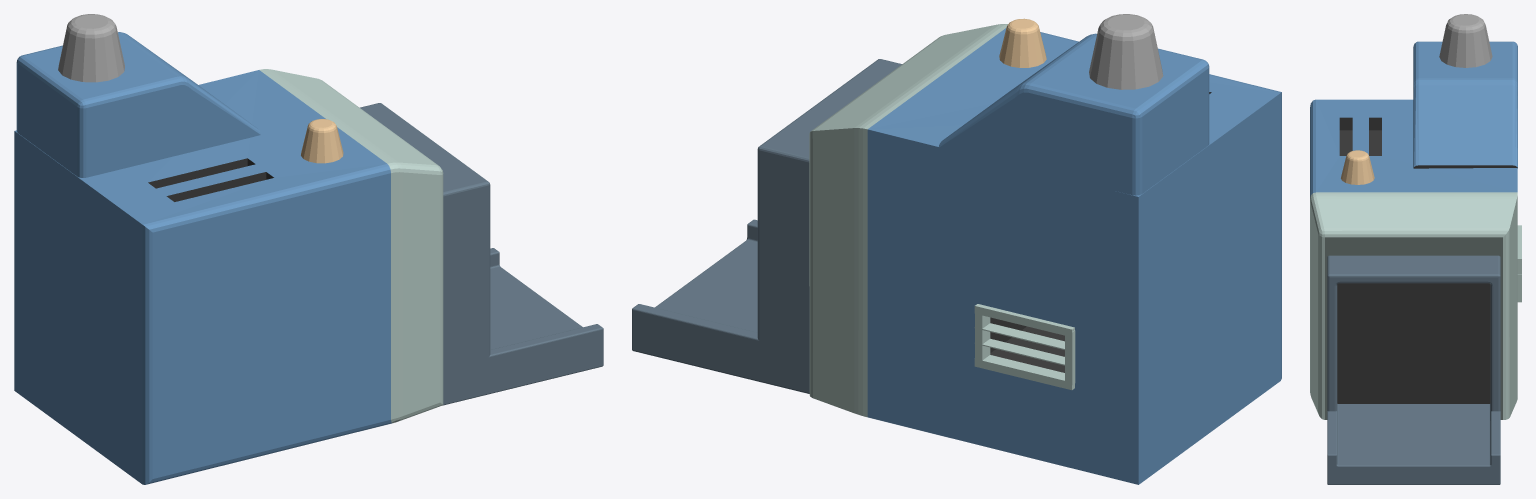
File: Factory@PizzaMachine.fbx
The picture shows the model from 3 angles, left to right: view 1: azimuth 30°, elevation 25°; view 2: azimuth 150°, elevation 25°; view 3: azimuth 270°, elevation 25°; orthographic projection. The views are drawn at different scales.
Parts seen in each view (by area): view 1: Main, Cube, Boole, Boole_1, Cone_1, Cone; view 2: Main, Cube, Boole, Boole_1, Cone_1, Cone; view 3: Main, Plane, Boole_1, Cube, Boole, Cone_1, Cone.
Boxes of the visible parts, left/top/right/bottom form: Main: left=14, top=69, right=443, bottom=484; Cube: left=16, top=32, right=260, bottom=177; Boole: left=360, top=103, right=490, bottom=390; Boole_1: left=443, top=248, right=603, bottom=405; Cone_1: left=58, top=14, right=124, bottom=82; Cone: left=301, top=119, right=343, bottom=163; Main: left=809, top=24, right=1281, bottom=484; Cube: left=938, top=33, right=1209, bottom=195; Boole: left=757, top=59, right=901, bottom=377; Boole_1: left=632, top=219, right=809, bottom=393; Cone_1: left=1089, top=14, right=1163, bottom=89; Cone: left=999, top=18, right=1046, bottom=67; Main: left=1310, top=99, right=1521, bottom=419; Plane: left=1337, top=283, right=1490, bottom=403; Boole_1: left=1327, top=404, right=1500, bottom=484; Cube: left=1413, top=41, right=1517, bottom=168; Boole: left=1327, top=255, right=1500, bottom=420; Cone_1: left=1439, top=14, right=1492, bottom=67; Cone: left=1341, top=150, right=1374, bottom=184.
Size of the model in its own units: 491 by 384 by 244.
